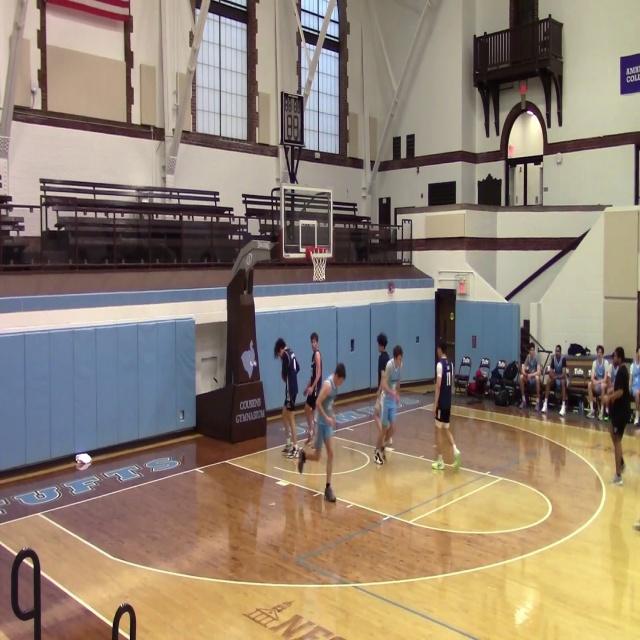Basketball: (75, 453, 92, 470)
